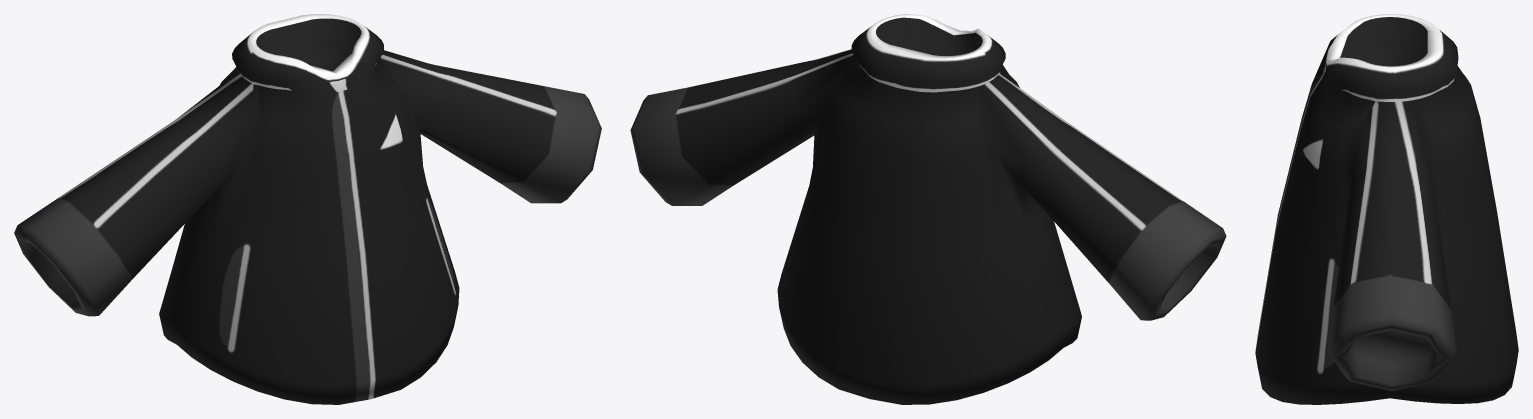
The model's file is chaqueta.glb.
The picture shows the model from 3 angles, left to right: view 1: azimuth 30°, elevation 25°; view 2: azimuth 150°, elevation 25°; view 3: azimuth 270°, elevation 25°; orthographic projection. The views are drawn at different scales.
Visible parts, largest first — view 1: Chaqueta; view 2: Chaqueta; view 3: Chaqueta.
Part boxes in pixels (x1,y1,x2,y2): Chaqueta: (14,14,601,404); Chaqueta: (630,14,1226,404); Chaqueta: (1255,14,1518,404).
Bounding box in the file's own units: 1.26 × 0.6775 × 0.4857.
1 material, 1 textured.
